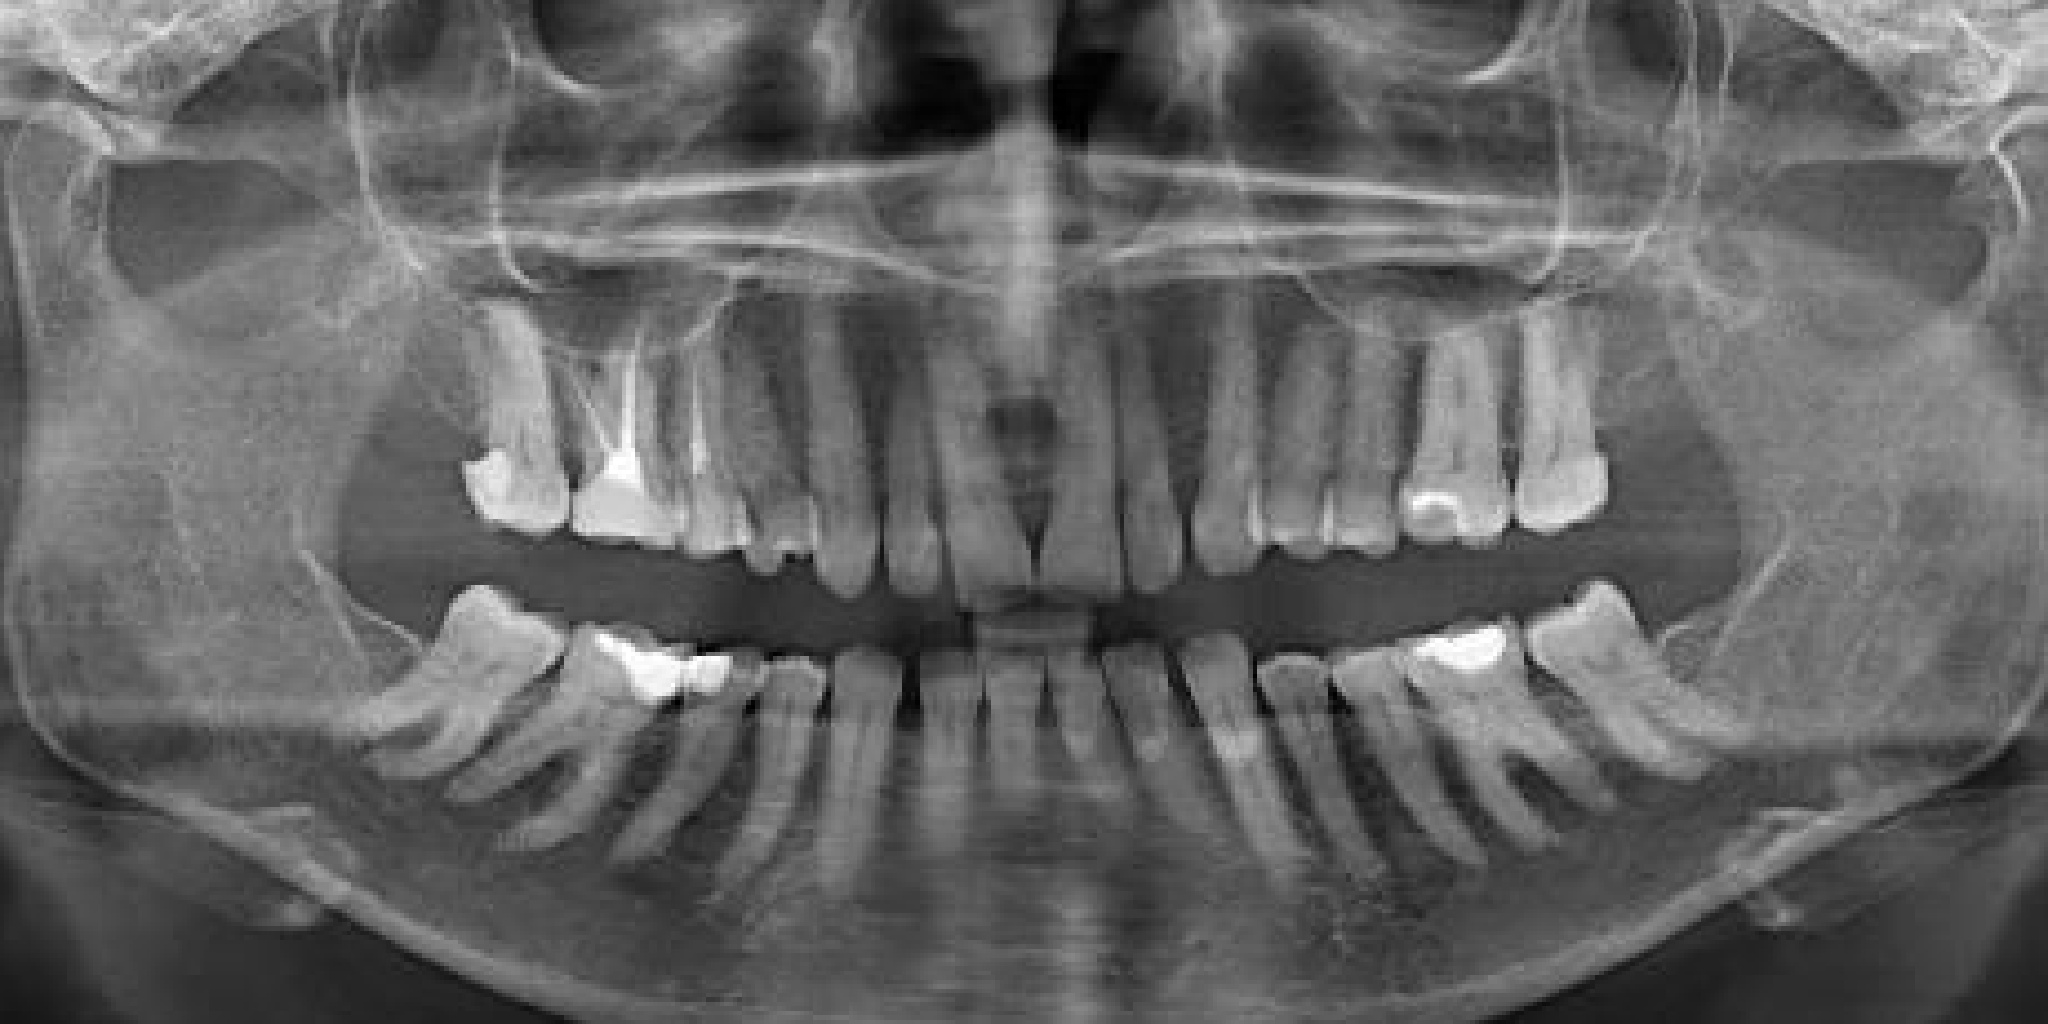Tooth: (1445, 496, 1866, 923), (334, 545, 765, 961), (1313, 525, 1718, 963), (249, 491, 635, 935), (1226, 545, 1605, 991), (494, 556, 858, 1004), (589, 576, 923, 1021), (1091, 556, 1421, 1000), (1017, 562, 1326, 1003), (950, 543, 1246, 982), (1411, 172, 1690, 605), (829, 242, 1108, 674), (372, 179, 644, 610), (1169, 196, 1435, 624), (626, 219, 892, 647), (1010, 217, 1270, 643), (1335, 191, 1595, 616), (724, 577, 977, 1000), (707, 216, 953, 637), (508, 210, 748, 630), (1253, 206, 1486, 623), (789, 247, 1023, 664), (896, 556, 1123, 969), (972, 234, 1199, 647), (1121, 200, 1347, 613), (594, 213, 815, 623), (835, 576, 1049, 984)
